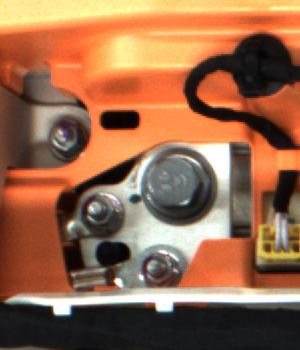screw_s: (75, 184, 121, 234), (134, 246, 178, 289), (43, 120, 88, 159)
